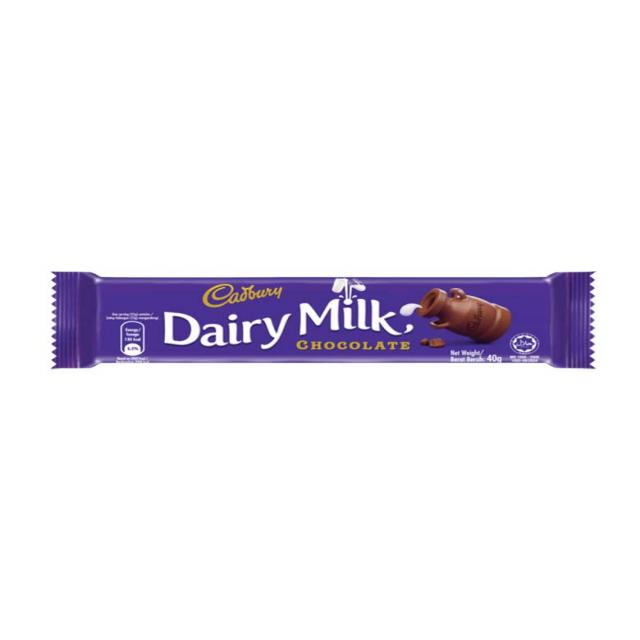cadbury: (51, 271, 593, 374)
